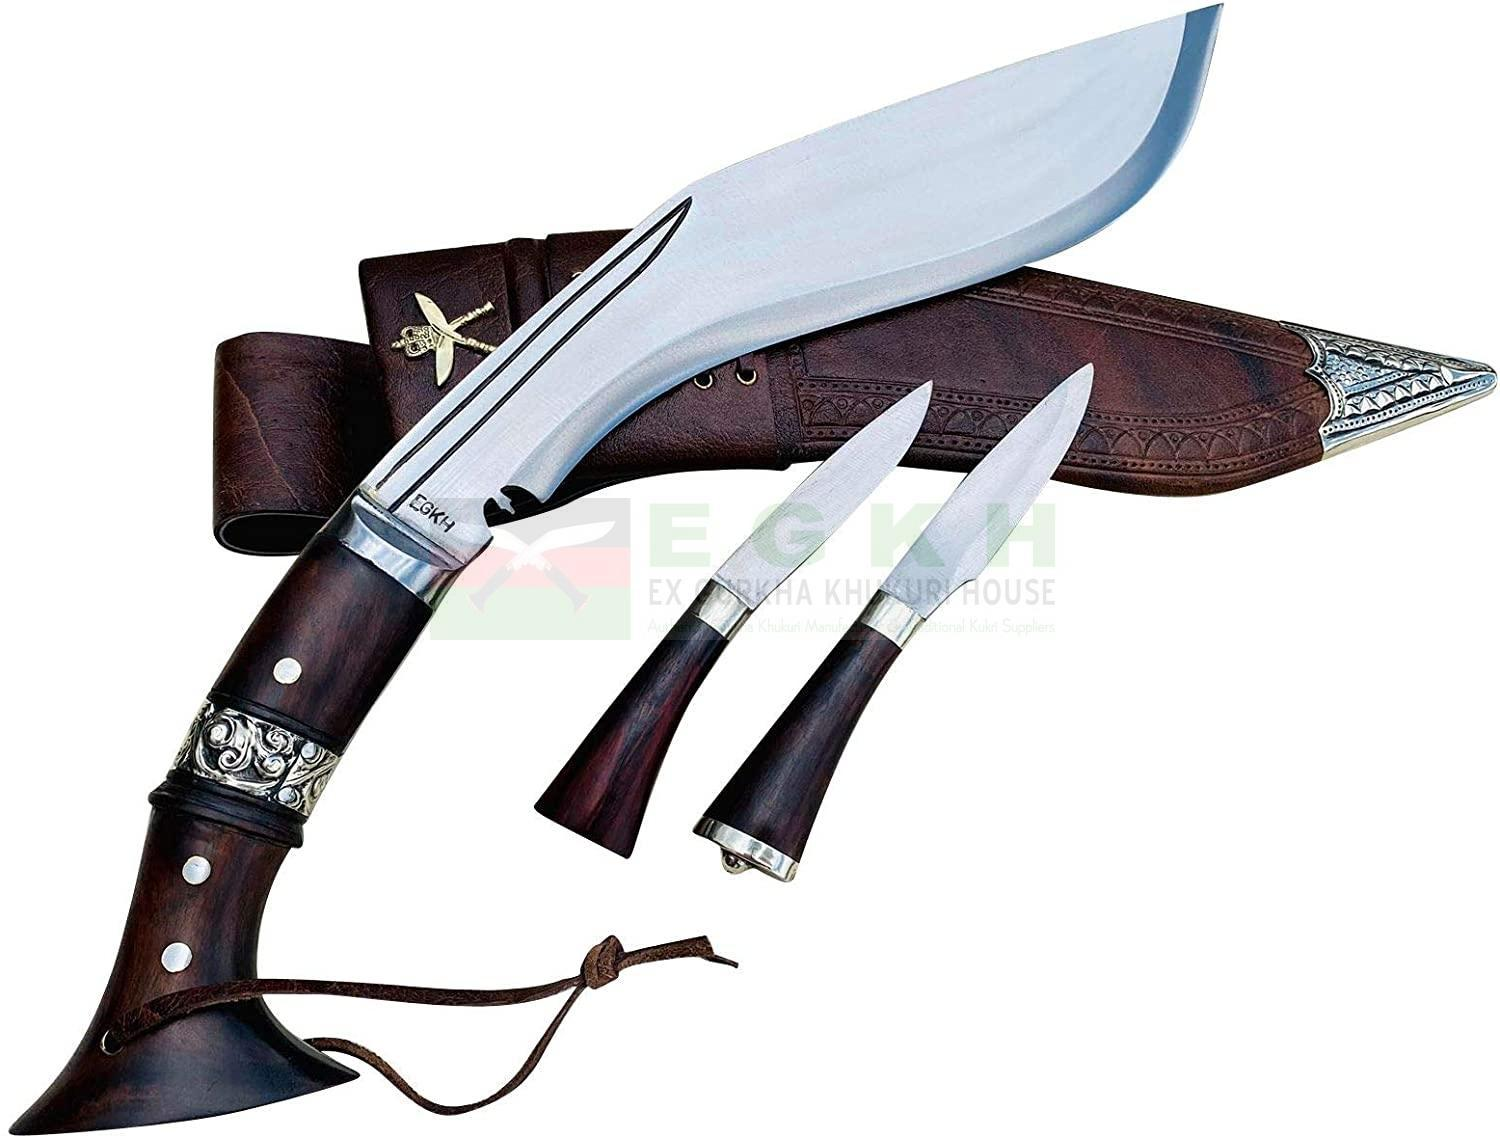faca: (696, 365, 1092, 877), (535, 383, 931, 855)
facao: (207, 7, 1217, 747)
